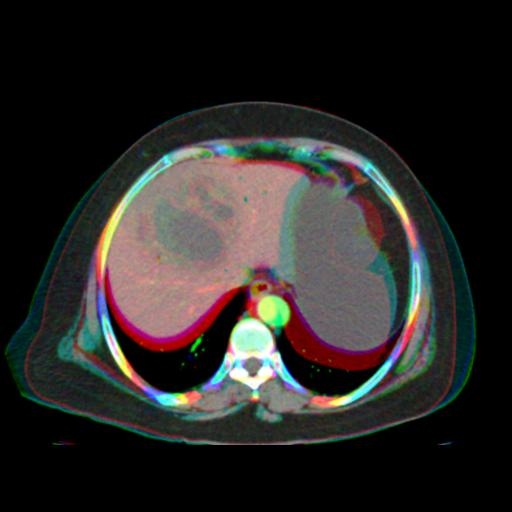Abscess: (155, 182, 234, 263)
